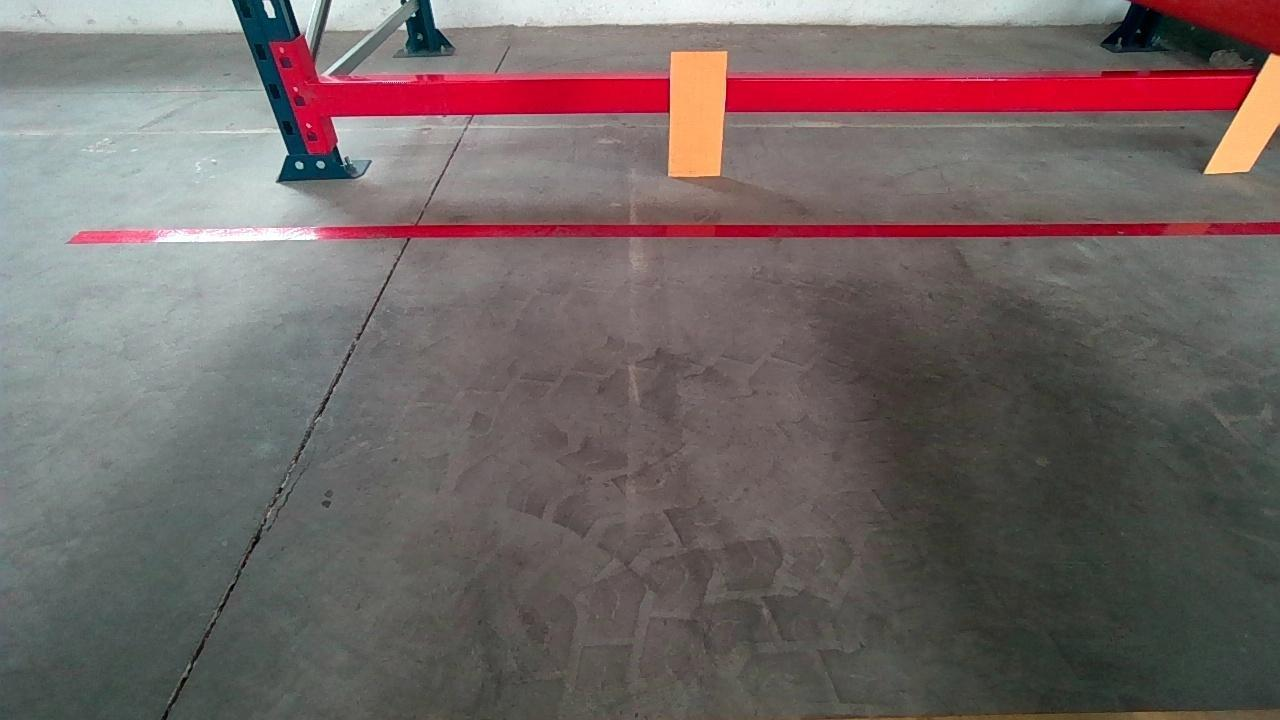h_rack: (319, 69, 1255, 123)
orange_strip: (1207, 55, 1280, 174), (669, 51, 727, 176)
red_line: (53, 217, 1280, 245)
